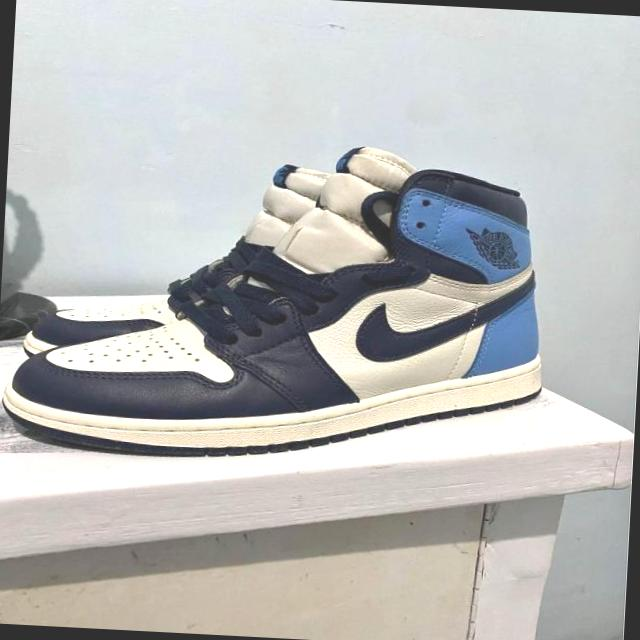nike_original_jordan: (0, 131, 554, 476), (13, 146, 364, 378)
